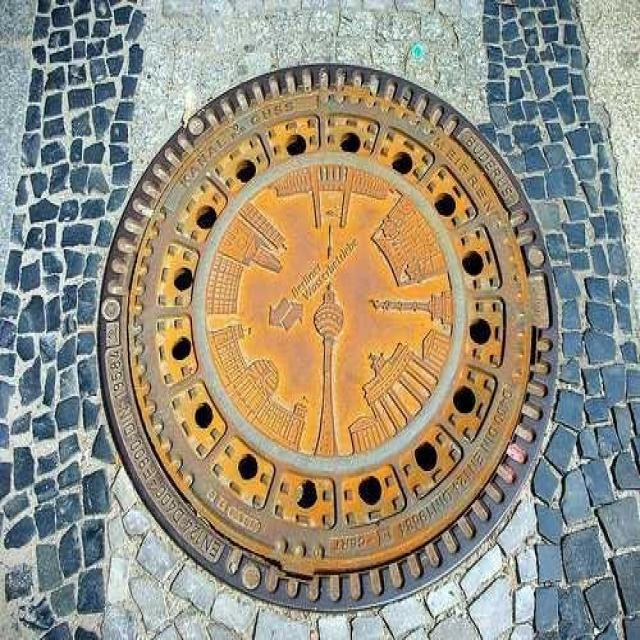manhole: (96, 63, 561, 611)
